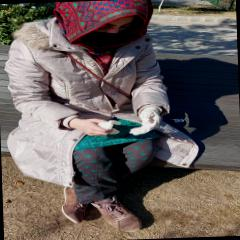gloved: (130, 108, 162, 136)
not-gloved: (70, 116, 114, 141)
